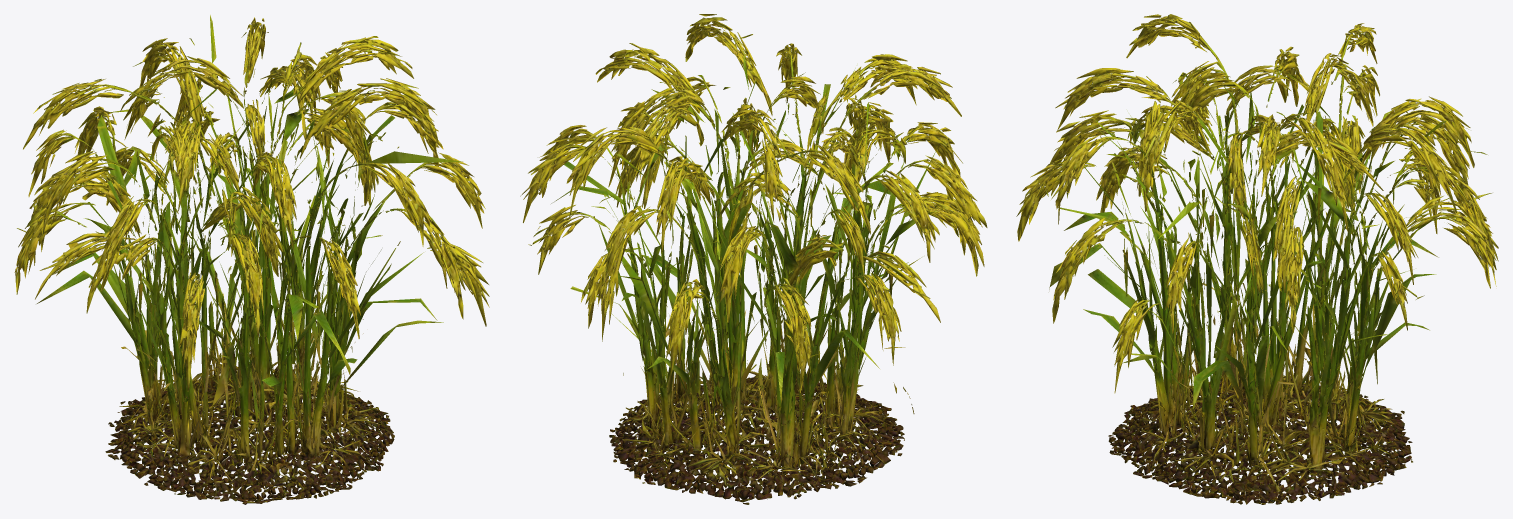
File: rice.glb
The picture shows the model from 3 angles, left to right: view 1: azimuth 30°, elevation 25°; view 2: azimuth 150°, elevation 25°; view 3: azimuth 270°, elevation 25°; orthographic projection. The views are drawn at different scales.
Visible parts, largest first — view 1: geometry_0; view 2: geometry_0; view 3: geometry_0.
Boxes of the visible parts, x1,y1,x2,y2 form: geometry_0: [14, 15, 489, 504]; geometry_0: [520, 14, 987, 504]; geometry_0: [1016, 14, 1498, 504].
Size of the model in its own units: 0.9603 by 0.85 by 0.9809.
Materials: 1 (1 with a texture image).
